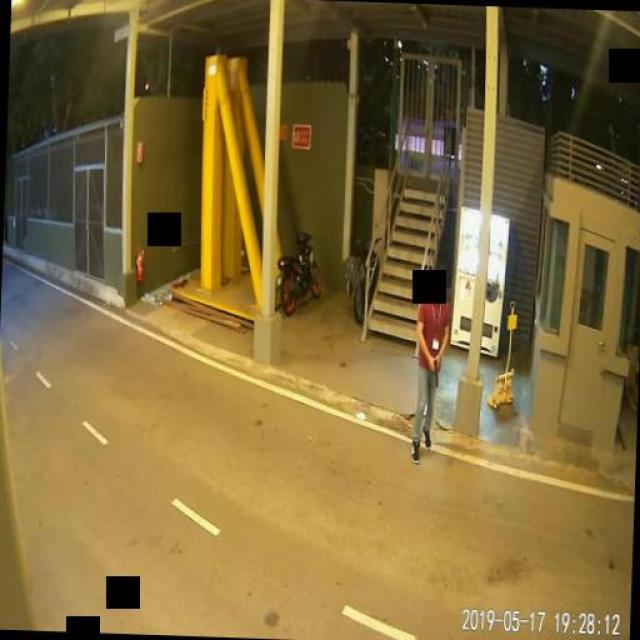gun: (425, 356, 437, 385)
